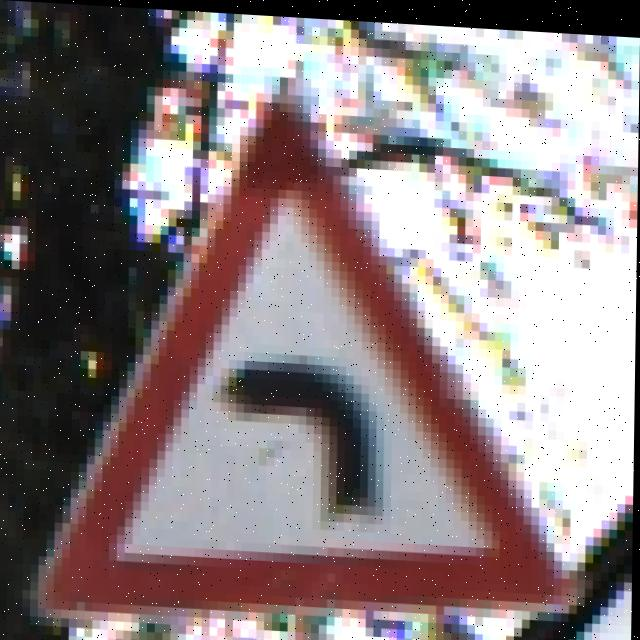left_turn: (65, 175, 573, 615)
